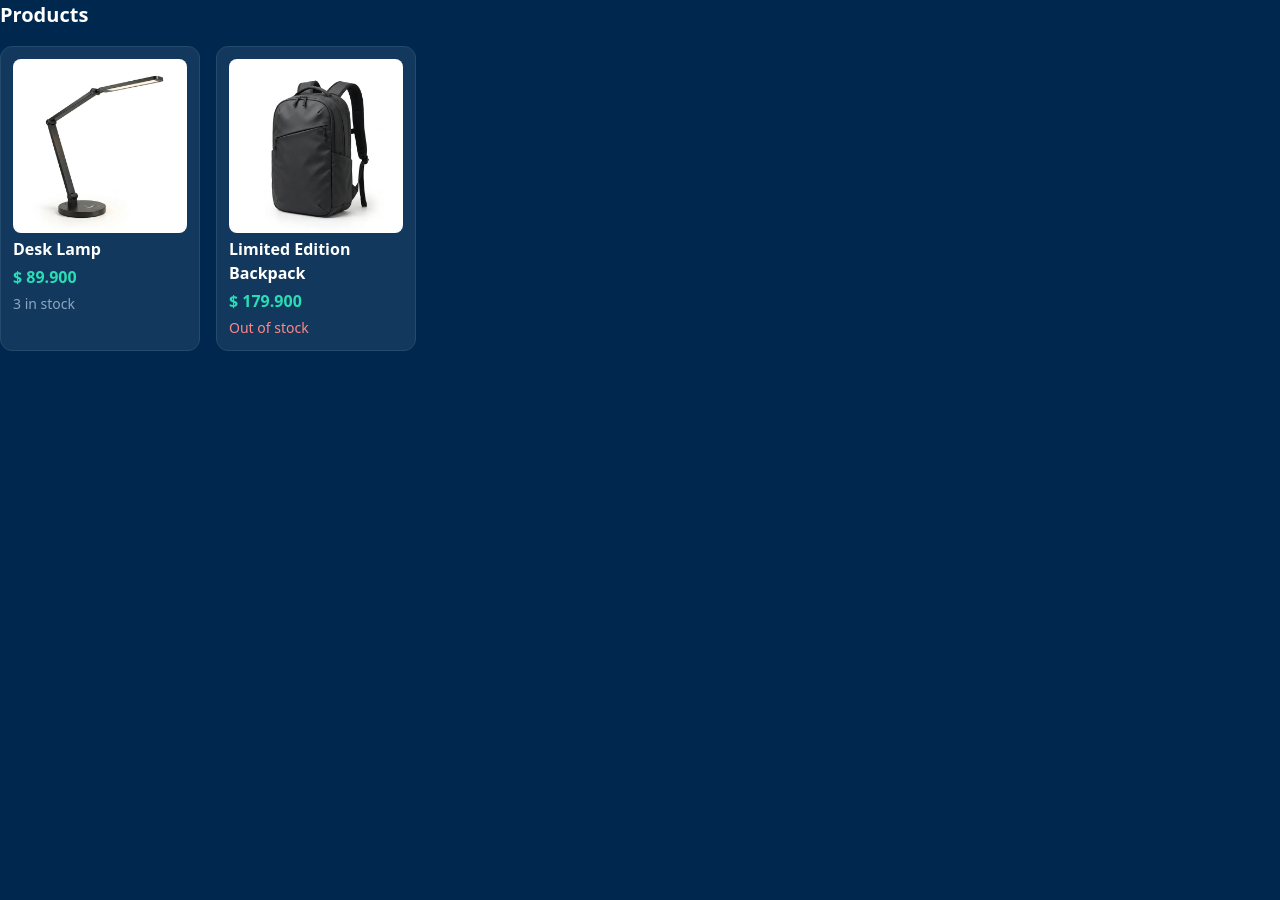
Scenario: ProductPage › opens a product in a modal and picks a quantity from a list bounded by stock
Click the button "Desk Lamp $ 89.900 3 in stock": coordinates (100, 198) [0, 46, 200, 351]
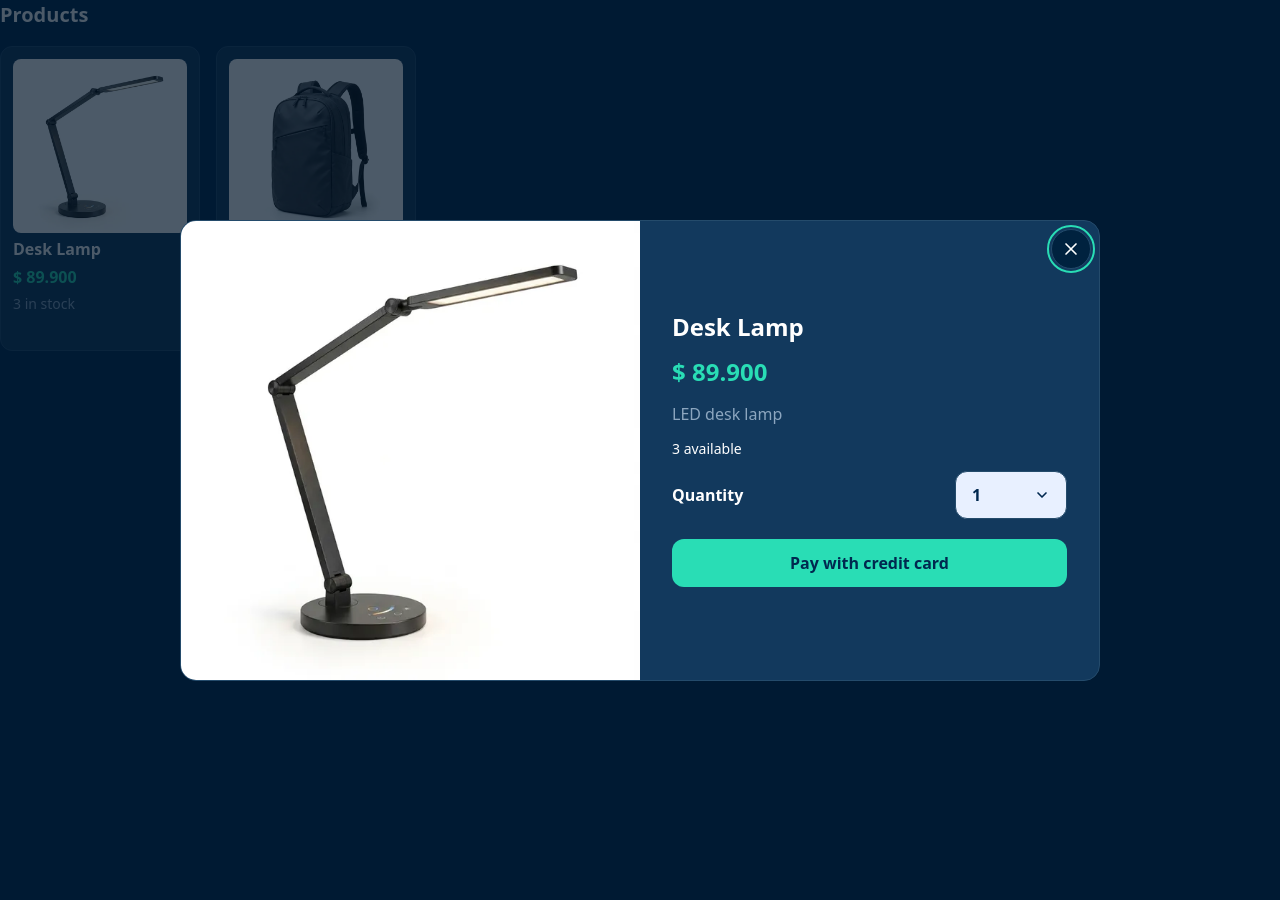
Check: the dialog "Desk Lamp" is shown, box [180, 220, 1100, 680]
Check: the text "LED desk lamp" is shown, box [672, 403, 782, 425]
Check: the button "Pay with credit card" is enabled, box [672, 539, 1067, 587]
Click the button named "Quantity": coordinates (1011, 495) [955, 471, 1067, 519]
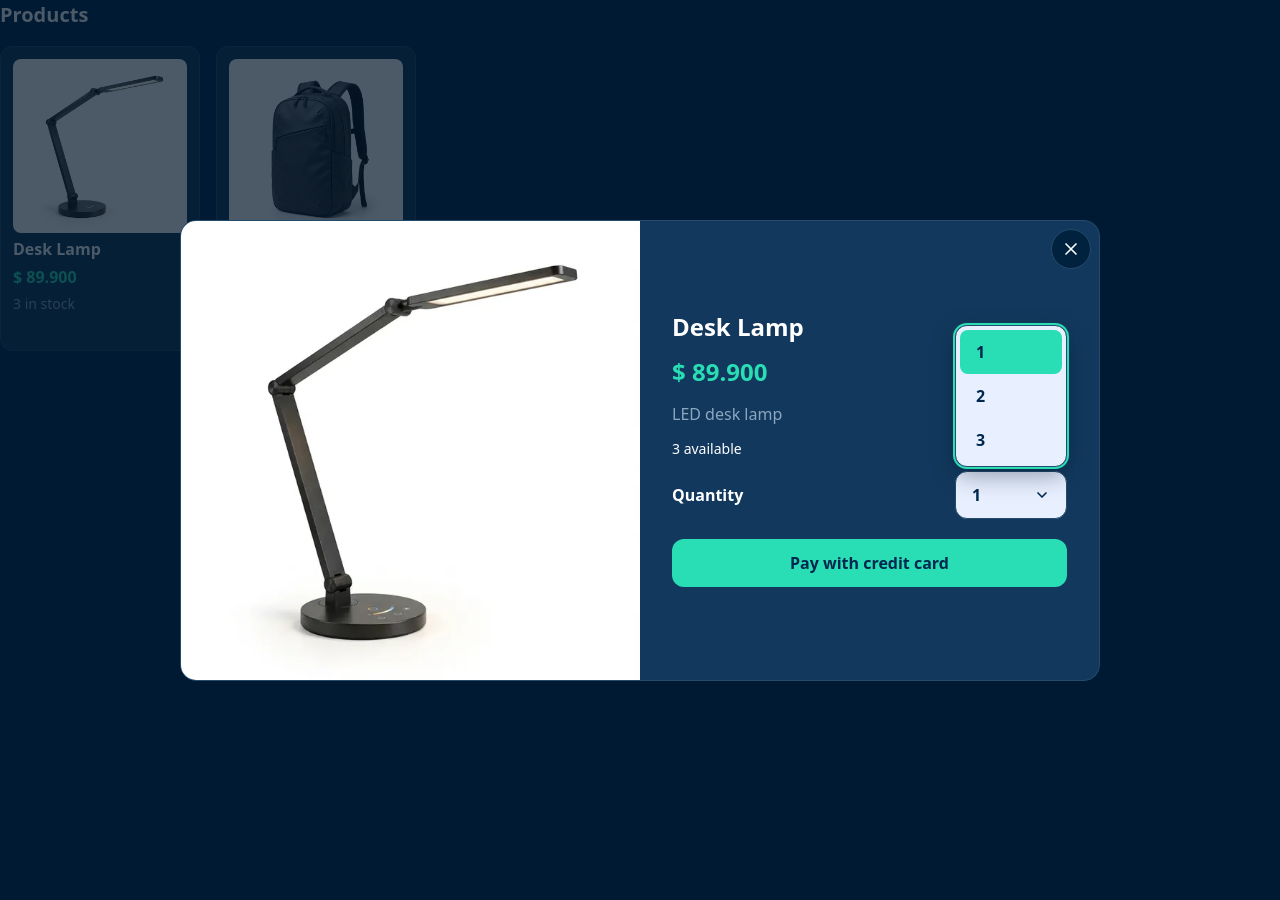
Check: the options read "1", "2", "3", in this order
Click the option "3": coordinates (981, 440) [976, 429, 985, 451]
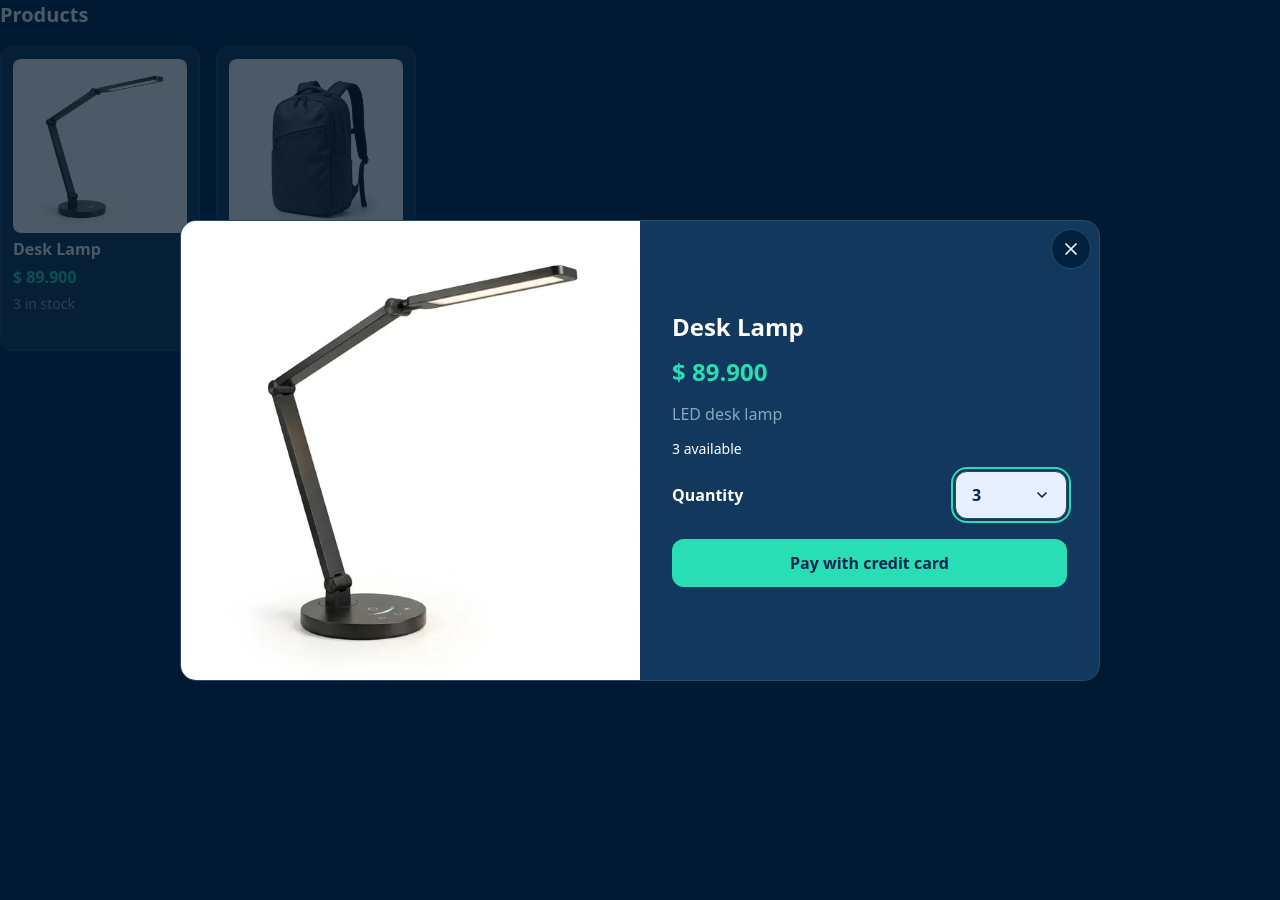
Check: the list "1 2 3" is gone
Check: the button named "Quantity" reads "3", box [955, 471, 1067, 519]
